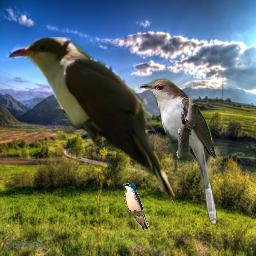Cuckoo: (5, 37, 175, 206), (138, 78, 218, 225)
Swallow: (123, 183, 149, 230)
